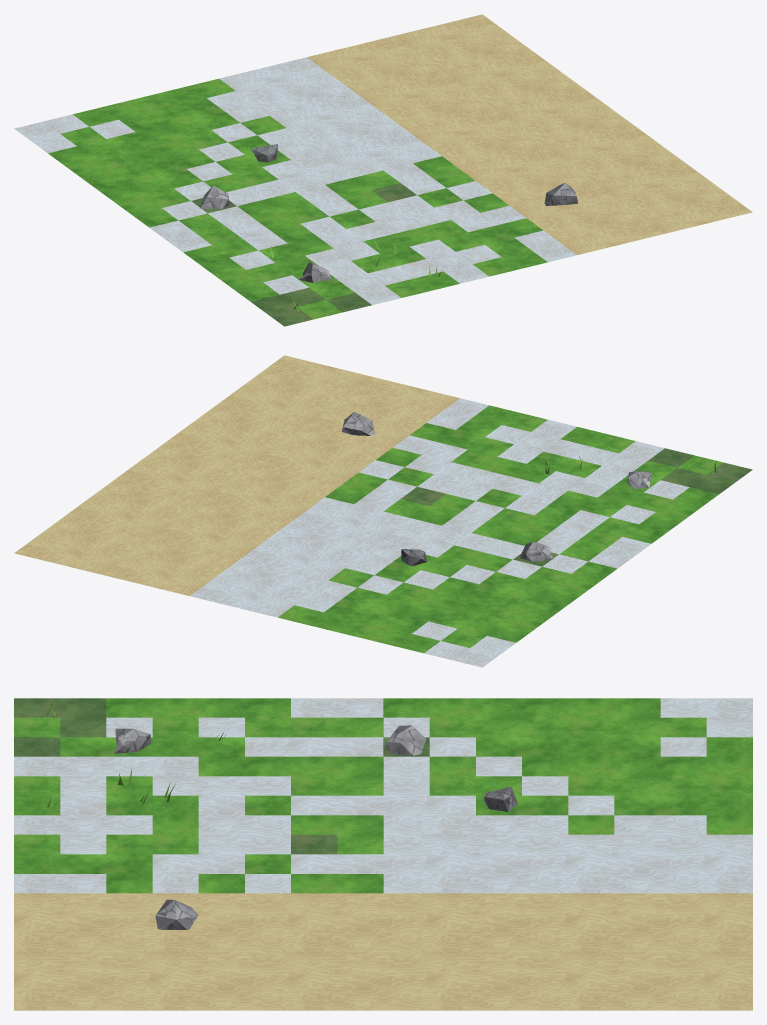
File: chunk_11_1.glb
3 renders of one model, top to bottom at view 1: azimuth 30°, elevation 25°; view 2: azimuth 150°, elevation 25°; view 3: azimuth 270°, elevation 25°, orthographic. The views are drawn at different scales.
Parts seen in each view (by area): view 1: chunk_11_1; view 2: chunk_11_1; view 3: chunk_11_1.
Part boxes in pixels (<box>): chunk_11_1: <box>14,14,752,326</box>; chunk_11_1: <box>14,355,752,667</box>; chunk_11_1: <box>14,698,752,1010</box>.
Bounding box in the file's own units: 16 × 0.9427 × 16.
7 materials, 6 textured.
